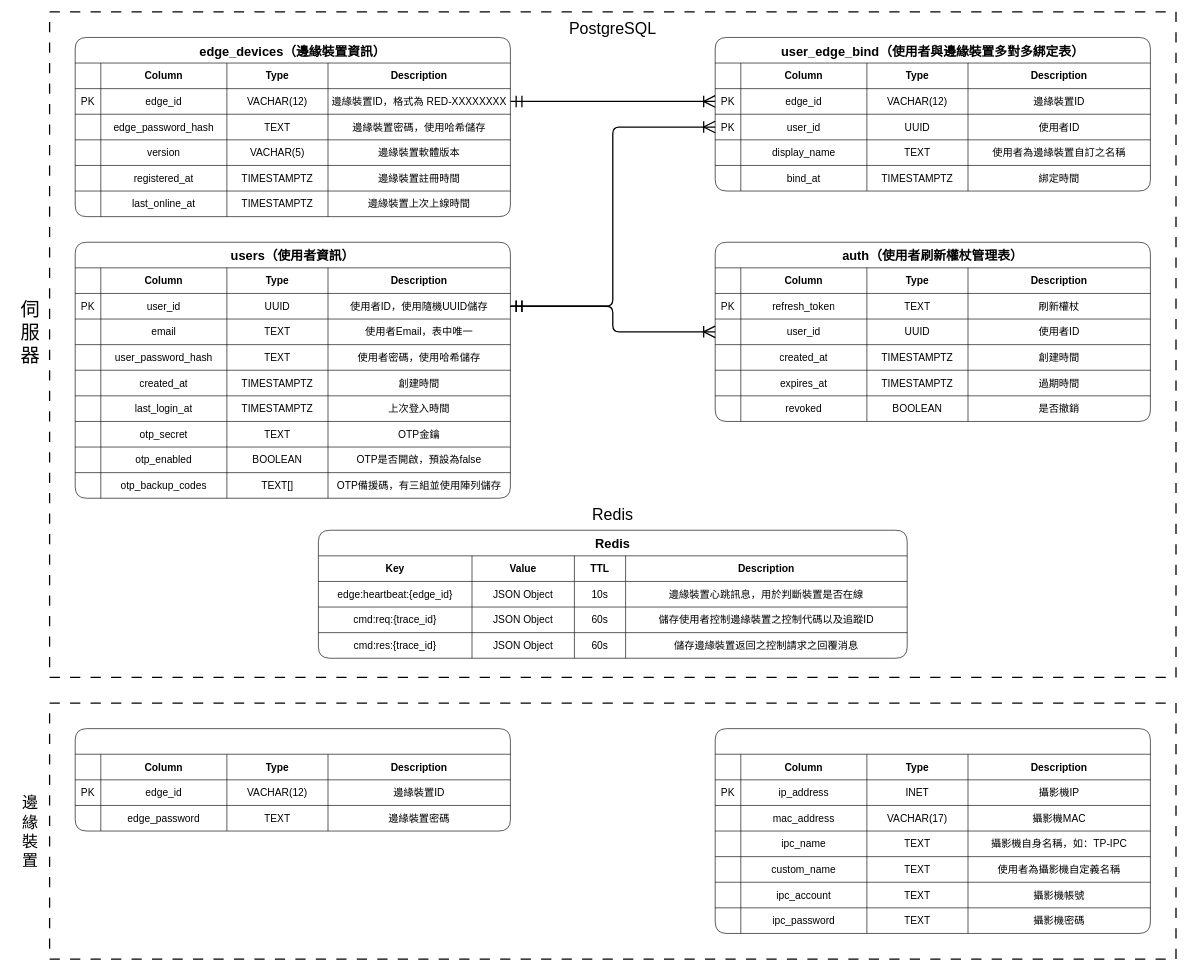
The diagram is 1187 pixels wide and 970 high, and some of its shapes have lost their labels. Here are the shapes that lost their labels. From the top down, the box of each, then its label:
(75, 728, 510, 831): config（單例設定表，此表僅存在一筆資料）
(715, 728, 1150, 933): connected_ipc（已連線之攝影機配置表）
